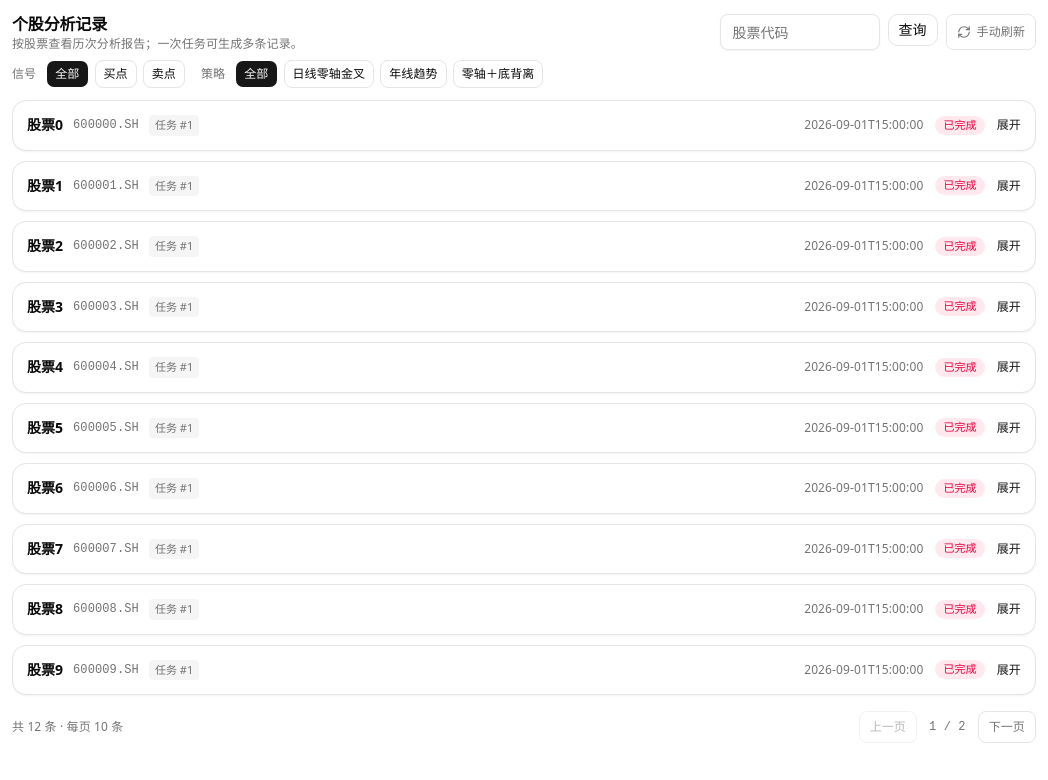
Scenario: analysis records pagination › shows the next page records and hides the previous page
Check: the text "股票10" is not shown
Click the button "下一页".
click(1007, 727)  # box [978,711,1036,743]
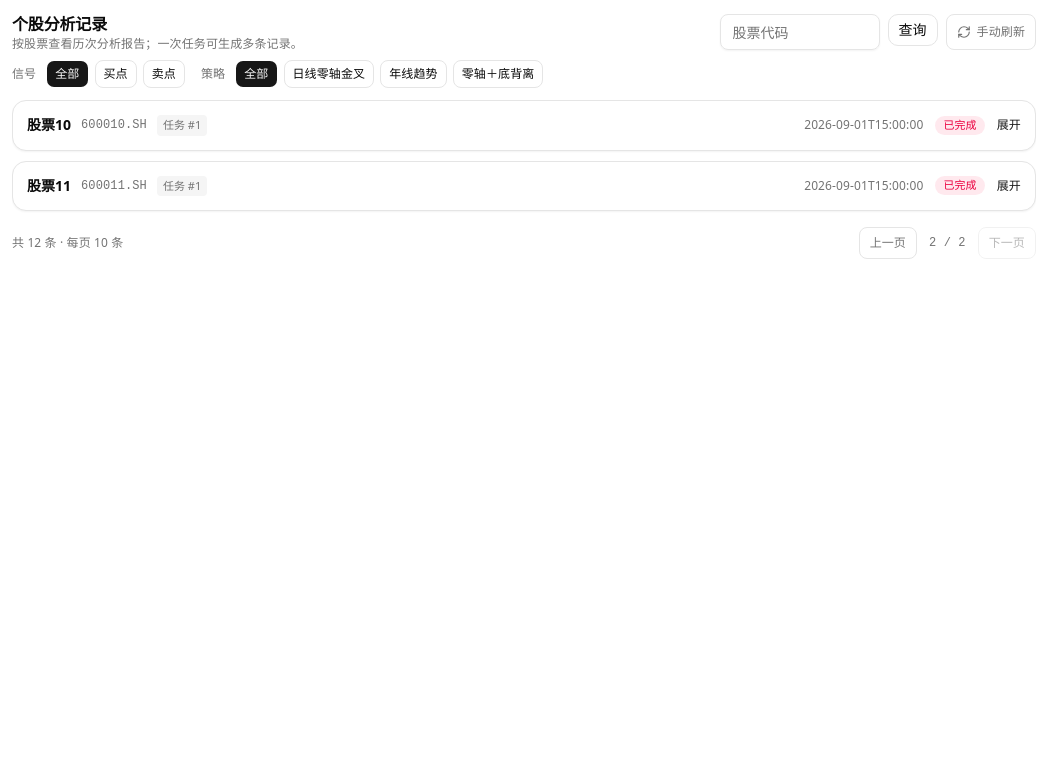
Check: the text "股票10" is shown, box [27,115,71,135]
Check: the text "股票0" is gone
